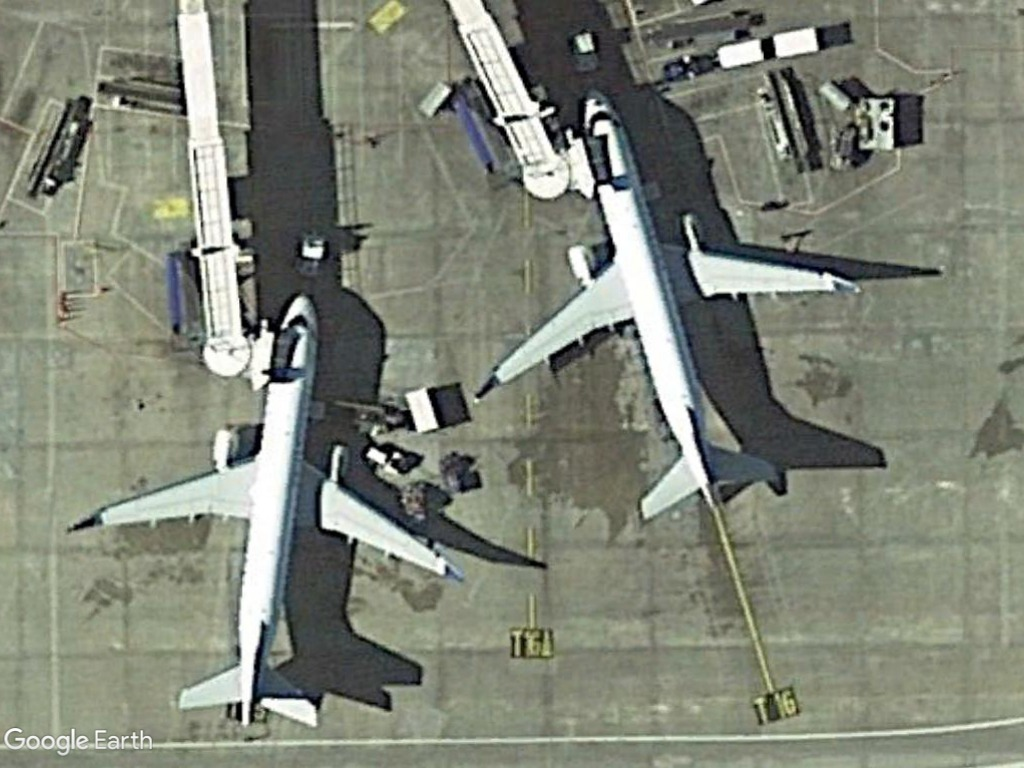airliner: (62, 290, 469, 735), (470, 83, 859, 524)
